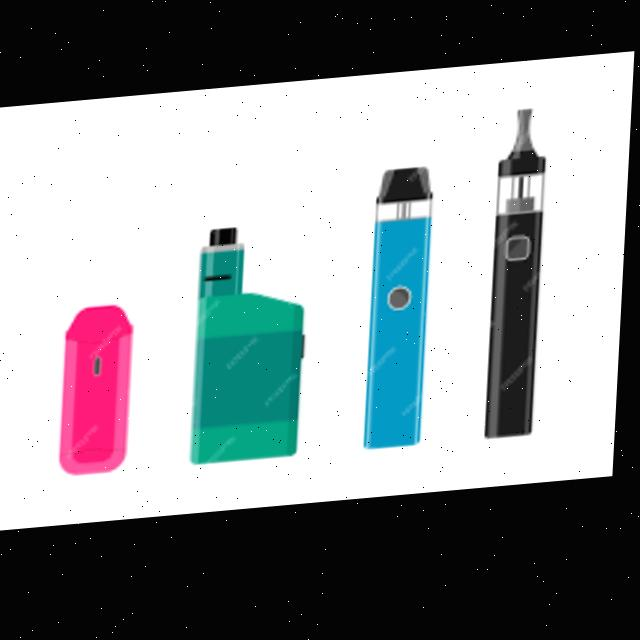vape: (193, 227, 315, 470), (490, 116, 552, 449), (368, 174, 438, 456), (64, 306, 138, 478)
